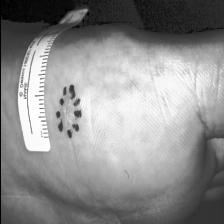Toxin: (57, 91, 82, 134)
